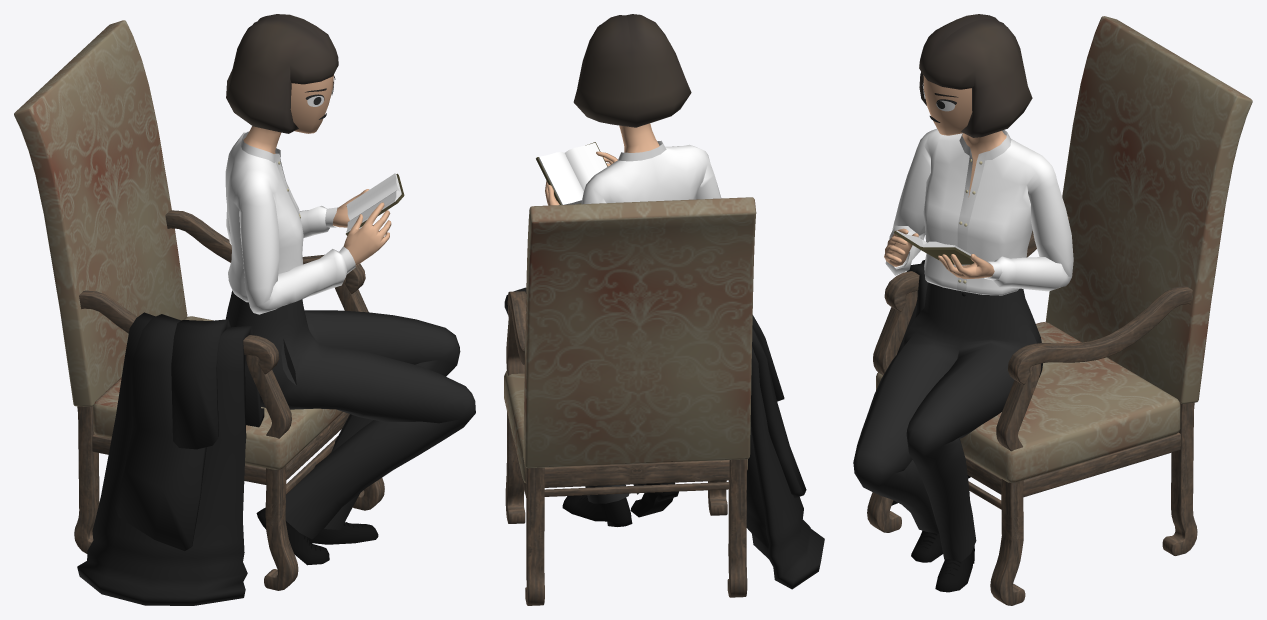
3 views of the same model, side by side, from view 1: azimuth 30°, elevation 25°; view 2: azimuth 150°, elevation 25°; view 3: azimuth 270°, elevation 25° (orthographic). The views are drawn at different scales.
Visible parts, largest first — view 1: Cube.001, Plane.001, Cube.007, Cube.005, Cube, Cube.004, Cube.003, Cube.006, Cube.008; view 2: Cube.007, Cube.005, Plane.001, Cube, Cube.001, Cube.008, Cube.004, Cube.003; view 3: Cube.001, Cube.007, Cube.005, Cube.004, Cube, Cube.003, Cube.006, Cube.008, Plane.001.
Part boxes in pixels (x1,y1,x2,y2): Cube.001: (225, 131, 475, 565); Plane.001: (77, 312, 264, 605); Cube.007: (14, 20, 187, 406); Cube.005: (74, 210, 384, 590); Cube: (226, 14, 338, 133); Cube.004: (93, 316, 342, 469); Cube.003: (243, 75, 333, 153); Cube.006: (332, 189, 391, 265); Cube.008: (346, 173, 404, 235); Cube.007: (523, 197, 756, 468); Cube.005: (505, 291, 747, 605); Plane.001: (746, 315, 824, 589); Cube: (573, 14, 691, 127); Cube.001: (504, 140, 721, 526); Cube.008: (536, 142, 607, 204); Cube.004: (504, 370, 747, 483); Cube.003: (619, 123, 659, 152); Cube.001: (853, 128, 1073, 592); Cube.007: (1045, 16, 1252, 403); Cube.005: (867, 216, 1197, 605); Cube.004: (876, 322, 1180, 482); Cube: (919, 14, 1032, 137); Cube.003: (923, 75, 1006, 197); Cube.006: (884, 228, 994, 278); Cube.008: (893, 230, 974, 264); Plane.001: (891, 260, 970, 505).
Size of the model in its own units: 0.7072 by 1.01 by 0.686.
16 materials, 2 textured.
